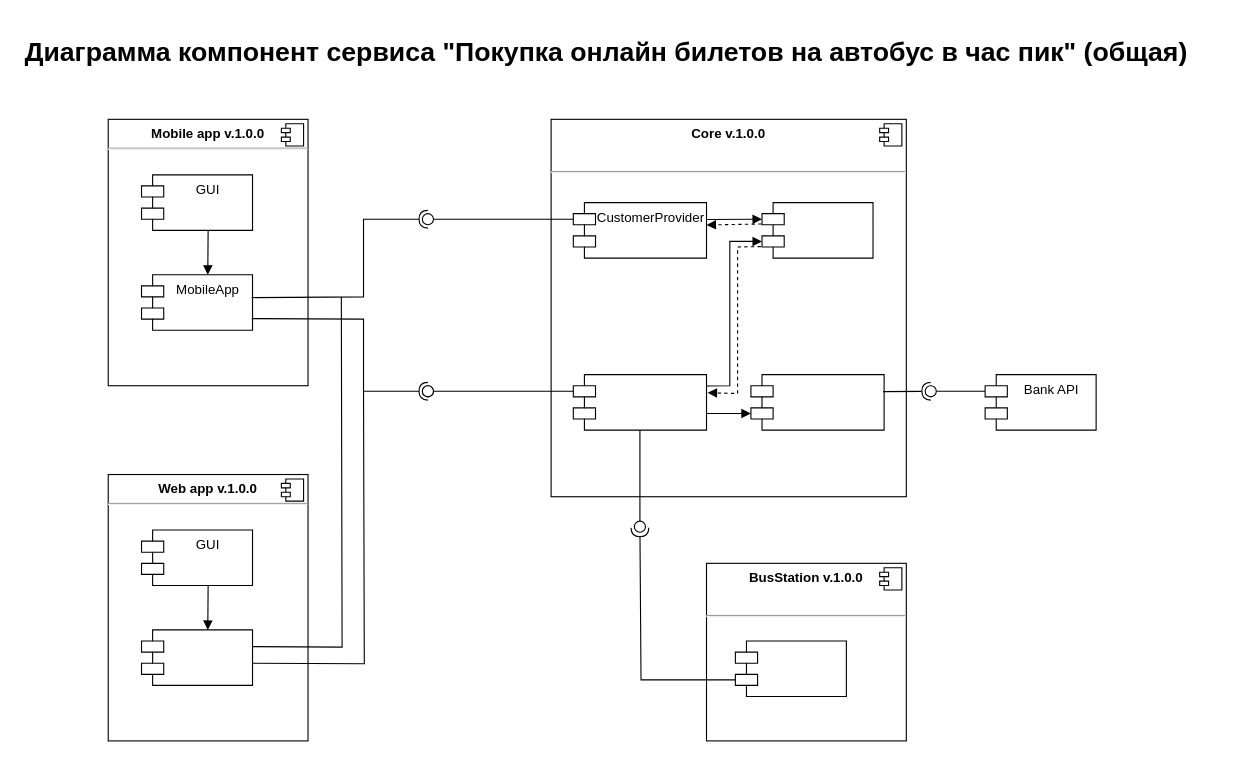
Some shapes in this 1237 by 760 pixel diagram are drawn without their labels. Each missing label, with the centre of its shape:
BusStation: [790,668]
DataBase: [817,229]
PaymentProvider: [817,402]
TicketProvider: [639,402]
WebApp: [196,657]
